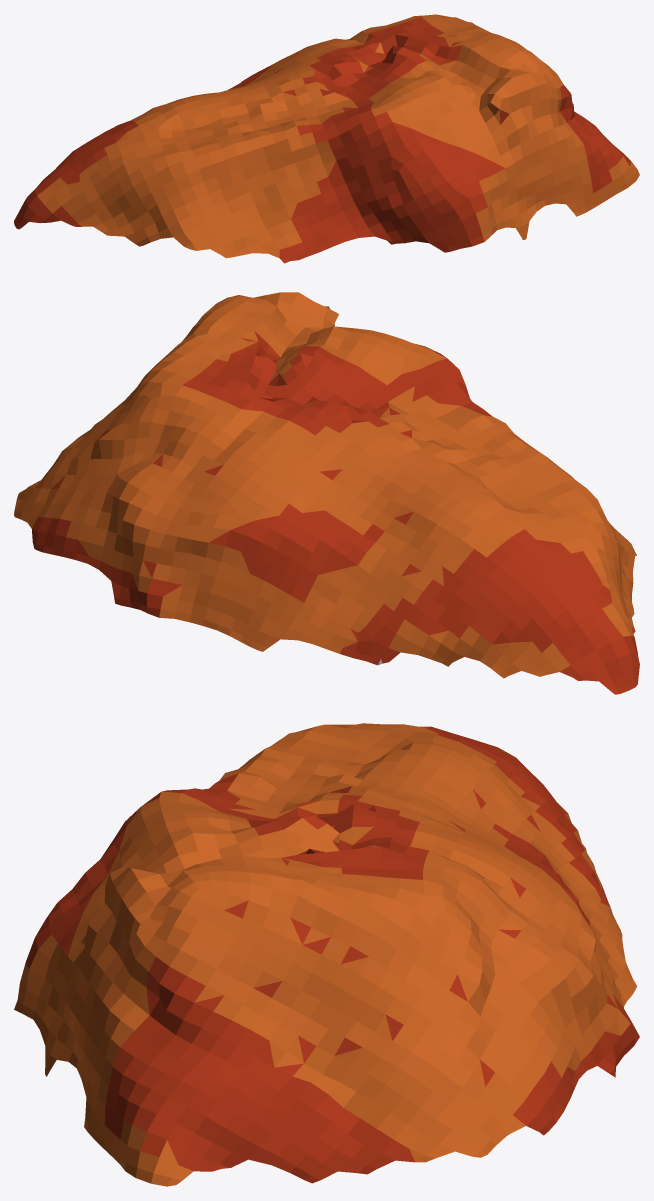
Rendered from Rock001_LOD2 .glb.
The picture shows the model from 3 angles, top to bottom: view 1: azimuth 30°, elevation 25°; view 2: azimuth 150°, elevation 25°; view 3: azimuth 270°, elevation 25°; orthographic projection. The views are drawn at different scales.
Visible parts, largest first — view 1: Rock001_LOD2_Prebake; view 2: Rock001_LOD2_Prebake; view 3: Rock001_LOD2_Prebake.
Part boxes in pixels (bbox=[...]): Rock001_LOD2_Prebake: bbox=[14, 14, 639, 263]; Rock001_LOD2_Prebake: bbox=[14, 292, 639, 694]; Rock001_LOD2_Prebake: bbox=[14, 723, 639, 1186].
Size of the model in its own units: 1.46 by 0.3971 by 0.9616.
3 materials, 1 textured.
